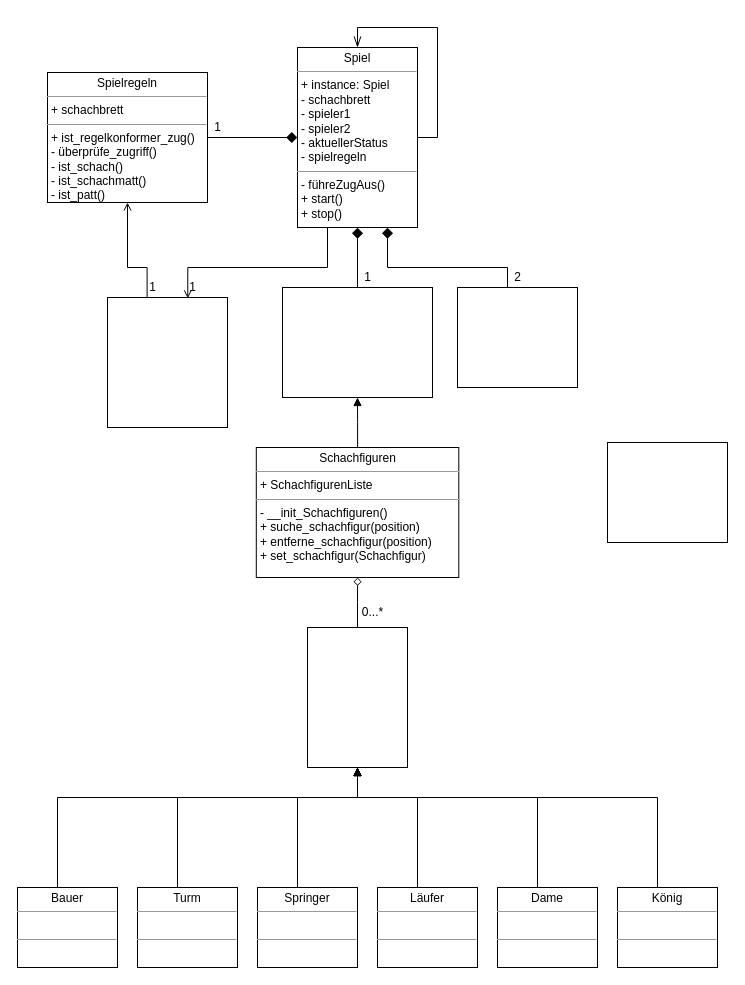
Some shapes in this 745 by 985 pixel diagram are drawn without their labels. Each missing label, with the centre of its shape:
"Schachbrett + bewege(zug)" goes at point (357, 342).
"Schachfigur + name + index + farbe +symbol +position" goes at point (357, 697).
"Spieler + name + farbe" goes at point (517, 337).
"View +show(Schachbrett)" goes at point (667, 492).
"Zug + startPosition + endPosition + schachfigur + get_Start() + get_Ziel()" goes at point (167, 362).
